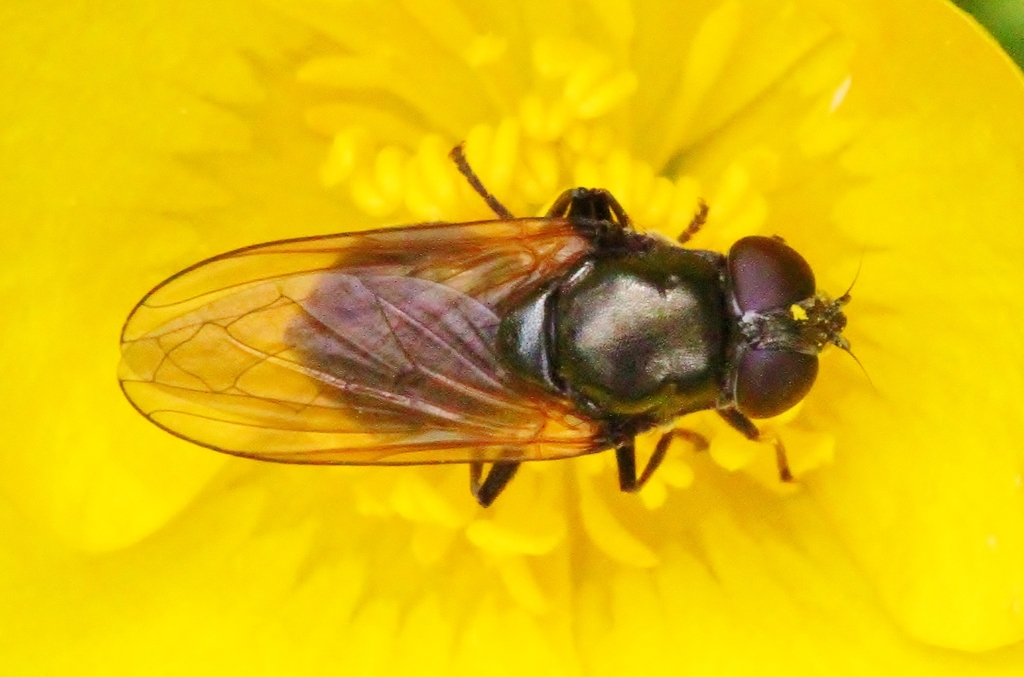not_bumblebee: (116, 140, 864, 511)
